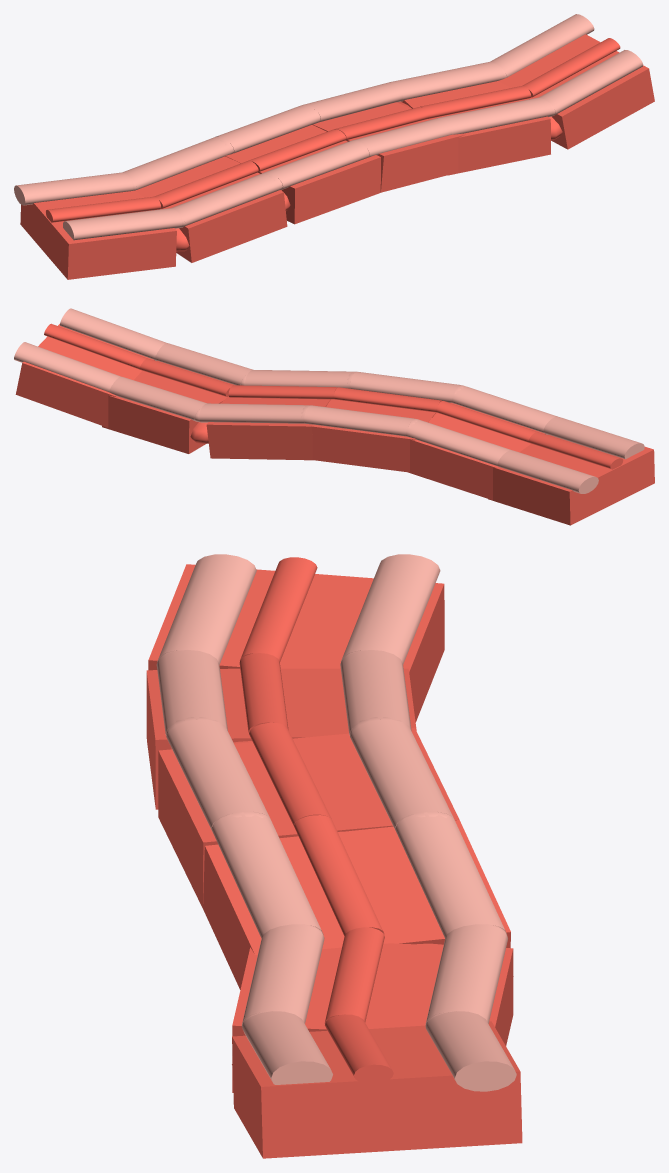
File: CMU3DFoodMeatBaconExtraCloud.glb
3 views of the same model, one above another, from view 1: azimuth 30°, elevation 25°; view 2: azimuth 150°, elevation 25°; view 3: azimuth 270°, elevation 25° (orthographic). The views are drawn at different scales.
Parts seen in each view (by area): view 1: continuous raw bacon ribbon 1, continuous raw bacon ribbon 6, continuous raw bacon ribbon 2, continuous raw bacon ribbon 3, continuous raw bacon ribbon 5, continuous raw bacon ribbon 4, pale bacon fat stripe 1.6, pale bacon fat stripe 2.1, pale bacon fat stripe 1.1, pale bacon fat stripe 1.2, pale bacon fat stripe 2.6, pale bacon fat stripe 2.2 (+12 smaller); view 2: continuous raw bacon ribbon 1, continuous raw bacon ribbon 6, continuous raw bacon ribbon 4, continuous raw bacon ribbon 3, continuous raw bacon ribbon 2, continuous raw bacon ribbon 5, pale bacon fat stripe 1.6, pale bacon fat stripe 2.3, pale bacon fat stripe 1.2, pale bacon fat stripe 2.4, pale bacon fat stripe 2.1, pale bacon fat stripe 2.6 (+12 smaller); view 3: continuous raw bacon ribbon 6, continuous raw bacon ribbon 4, continuous raw bacon ribbon 3, continuous raw bacon ribbon 1, continuous raw bacon ribbon 5, continuous raw bacon ribbon 2, pale bacon fat stripe 1.4, pale bacon fat stripe 2.4, pale bacon fat stripe 2.1, pale bacon fat stripe 1.1, pale bacon fat stripe 1.3, pale bacon fat stripe 2.3 (+12 smaller).
Part boxes in pixels (box(x1,y1,x2,y2)): continuous raw bacon ribbon 1: box(20, 190, 176, 279); continuous raw bacon ribbon 6: box(498, 34, 654, 149); continuous raw bacon ribbon 2: box(135, 156, 287, 262); continuous raw bacon ribbon 3: box(225, 125, 380, 224); continuous raw bacon ribbon 5: box(401, 81, 550, 175); continuous raw bacon ribbon 4: box(312, 102, 465, 192); pale bacon fat stripe 1.6: box(539, 50, 643, 115); pale bacon fat stripe 2.1: box(14, 172, 133, 205); pale bacon fat stripe 1.1: box(63, 208, 182, 240); pale bacon fat stripe 1.2: box(171, 173, 280, 225); pale bacon fat stripe 2.6: box(490, 14, 594, 77); pale bacon fat stripe 2.2: box(122, 137, 232, 189); continuous raw bacon ribbon 1: box(488, 434, 654, 525); continuous raw bacon ribbon 6: box(15, 324, 154, 427); continuous raw bacon ribbon 4: box(206, 396, 330, 460); continuous raw bacon ribbon 3: box(311, 399, 435, 472); continuous raw bacon ribbon 2: box(408, 402, 545, 500); continuous raw bacon ribbon 5: box(102, 361, 234, 453); pale bacon fat stripe 1.6: box(60, 308, 166, 359); pale bacon fat stripe 2.3: box(303, 405, 414, 436); pale bacon fat stripe 1.2: box(451, 386, 556, 432); pale bacon fat stripe 2.4: box(199, 403, 310, 423); pale bacon fat stripe 2.1: box(497, 450, 598, 493); pale bacon fat stripe 2.6: box(14, 342, 120, 391); continuous raw bacon ribbon 6: box(232, 1021, 522, 1158); continuous raw bacon ribbon 4: box(203, 820, 510, 989); continuous raw bacon ribbon 3: box(158, 727, 459, 908); continuous raw bacon ribbon 1: box(148, 564, 444, 722); continuous raw bacon ribbon 5: box(232, 943, 513, 1092); continuous raw bacon ribbon 2: box(146, 668, 416, 809); pale bacon fat stripe 1.4: box(211, 812, 323, 938); pale bacon fat stripe 2.4: box(395, 812, 506, 938); pale bacon fat stripe 2.1: box(341, 554, 440, 664); pale bacon fat stripe 1.1: box(157, 554, 256, 664); pale bacon fat stripe 1.3: box(166, 719, 269, 831); pale bacon fat stripe 2.3: box(350, 719, 453, 828).
Size of the model in its own units: 0.5891 by 0.0614 by 0.1679.
